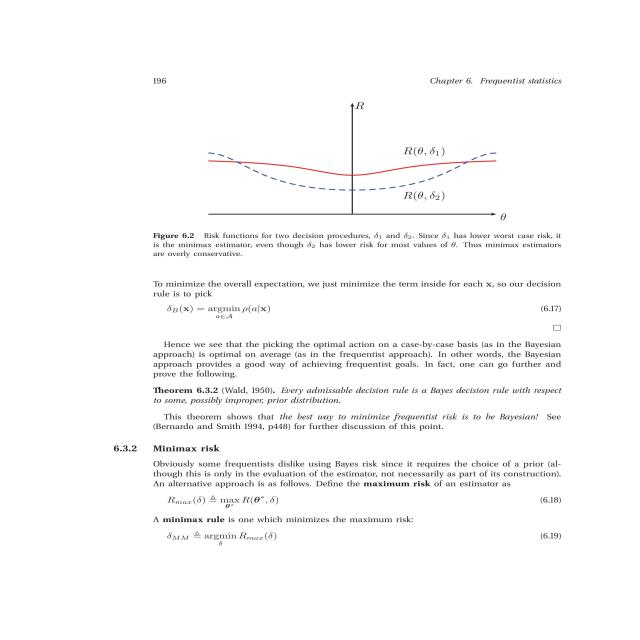diagram: (103, 98, 588, 269)
